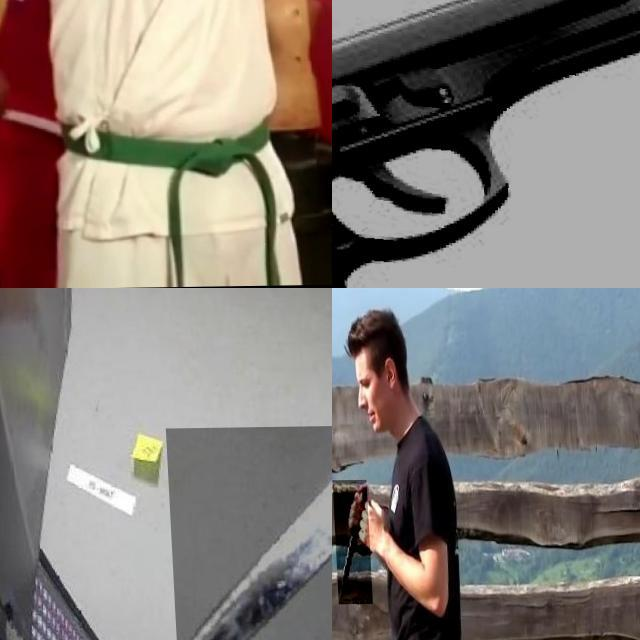-: (162, 426, 332, 640), (332, 480, 368, 605)
gun-knife-thesis - v11 Yolov5 augmented: (332, 0, 640, 288)
